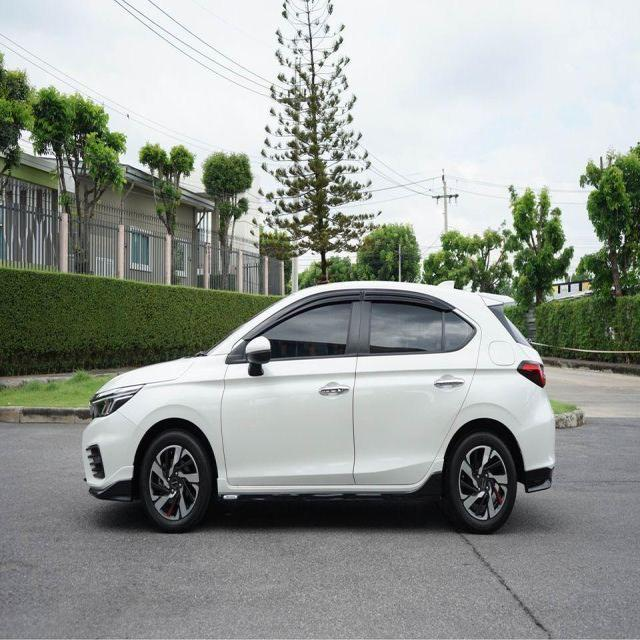Hatchback: (81, 281, 557, 536)
